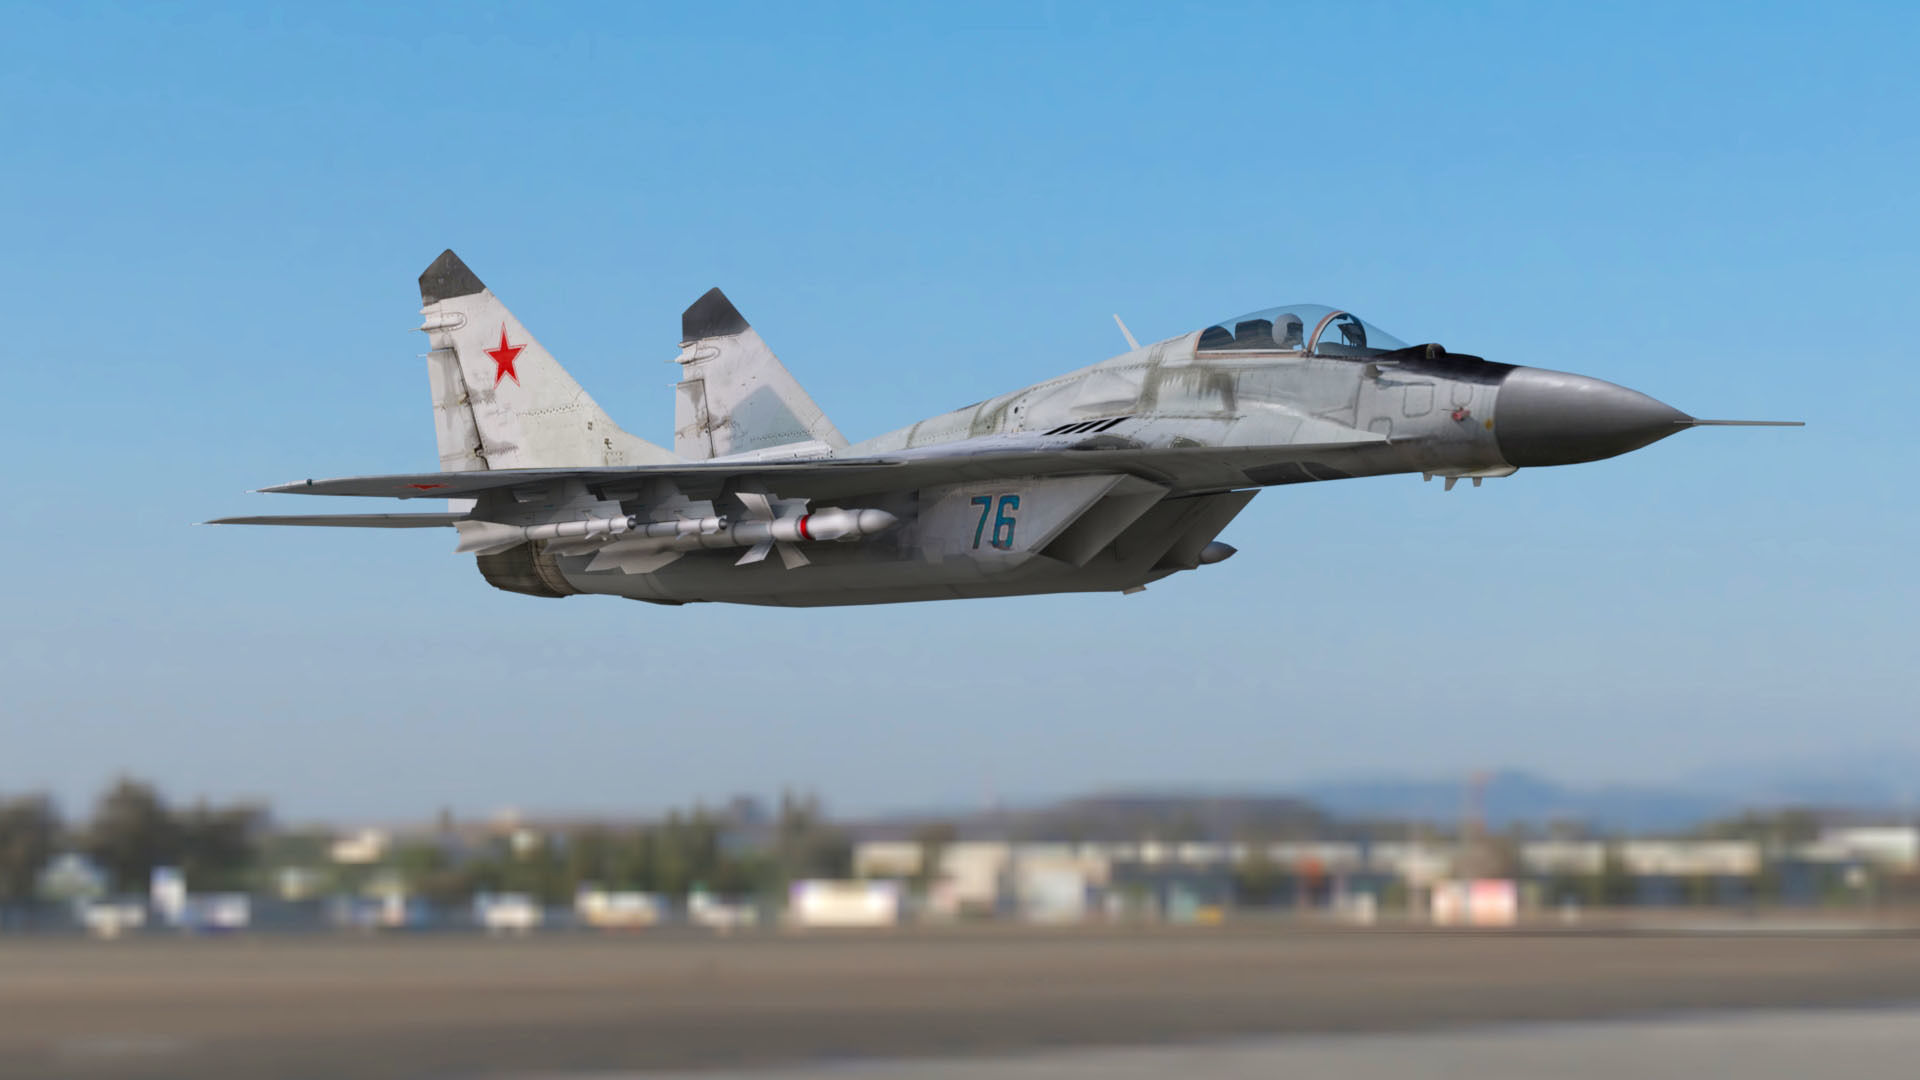Mig-29: (222, 138, 1741, 676)
